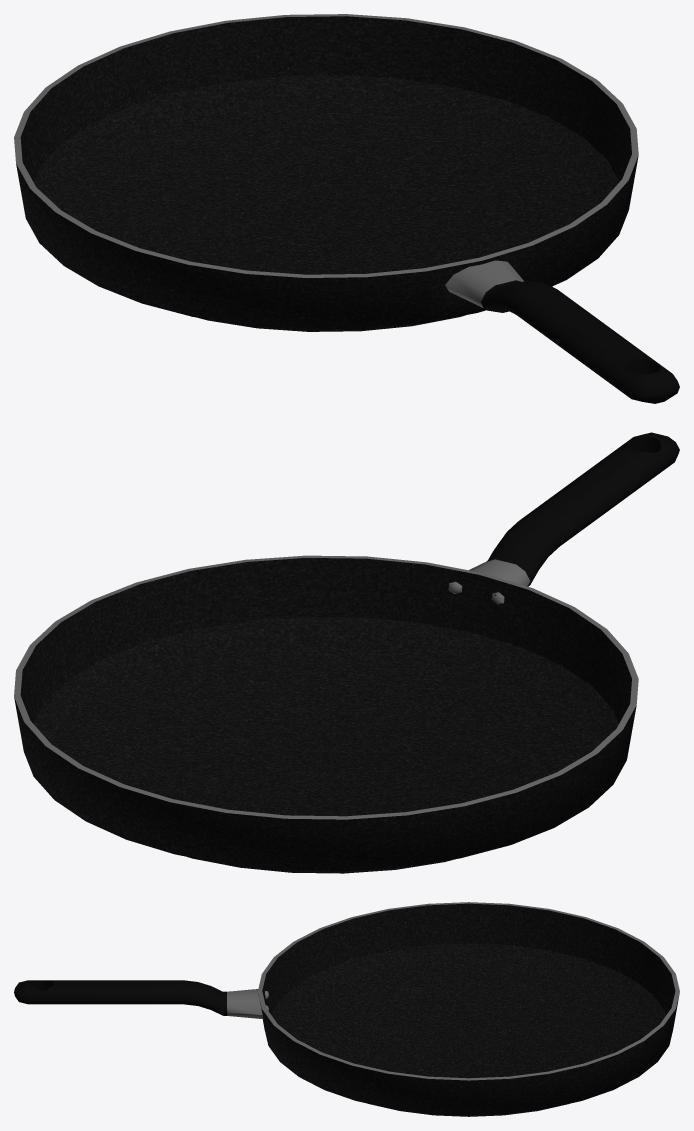
File: fryingpan.glb
The picture shows the model from 3 angles, top to bottom: view 1: azimuth 30°, elevation 25°; view 2: azimuth 150°, elevation 25°; view 3: azimuth 270°, elevation 25°; orthographic projection. The views are drawn at different scales.
Parts seen in each view (by area): view 1: Fry_pan; view 2: Fry_pan; view 3: Fry_pan.
Boxes of the visible parts, x1,y1,x2,y2 form: Fry_pan: [14, 14, 679, 403]; Fry_pan: [14, 432, 679, 873]; Fry_pan: [14, 902, 679, 1116].
Bounding box in the file's own units: 0.364 × 0.0541 × 0.5742.
Materials: 1 (1 with a texture image).
